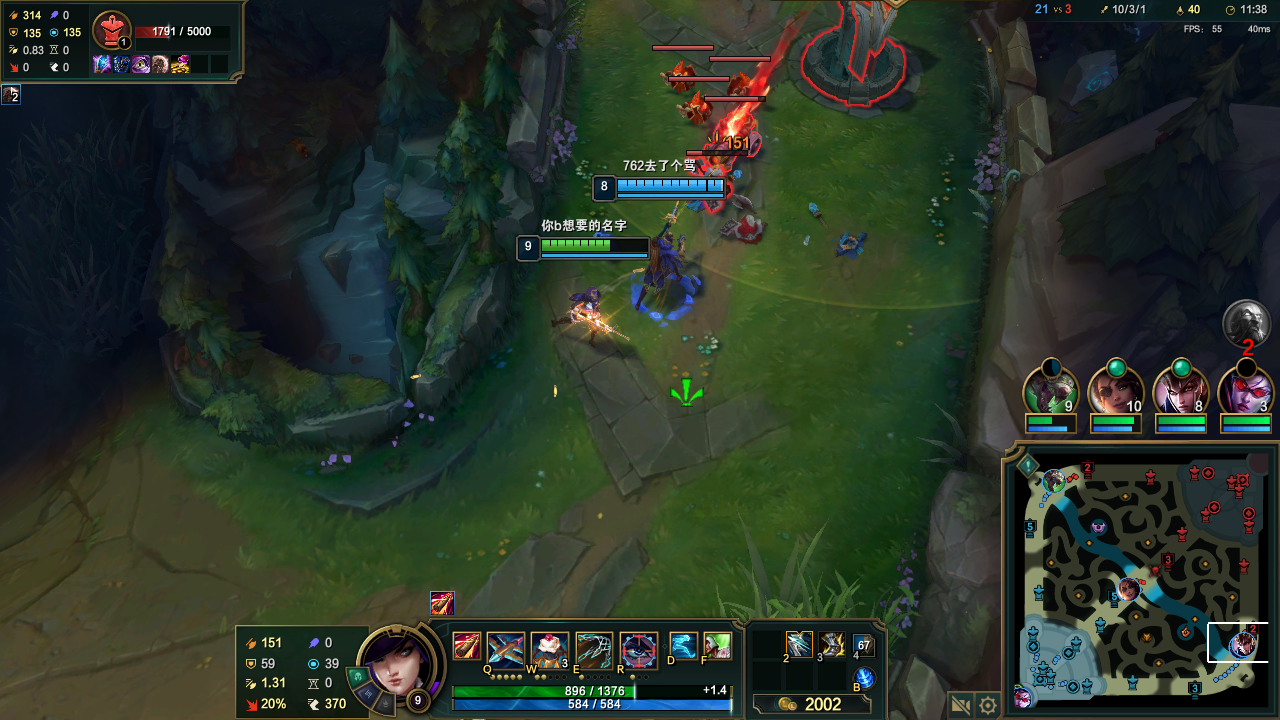DFFYT: (795, 6, 923, 113)
DFXB: (698, 165, 732, 210), (662, 59, 691, 80), (731, 72, 748, 93), (685, 97, 702, 116)
KF: (786, 633, 810, 647)
WFXB: (718, 118, 756, 148)
